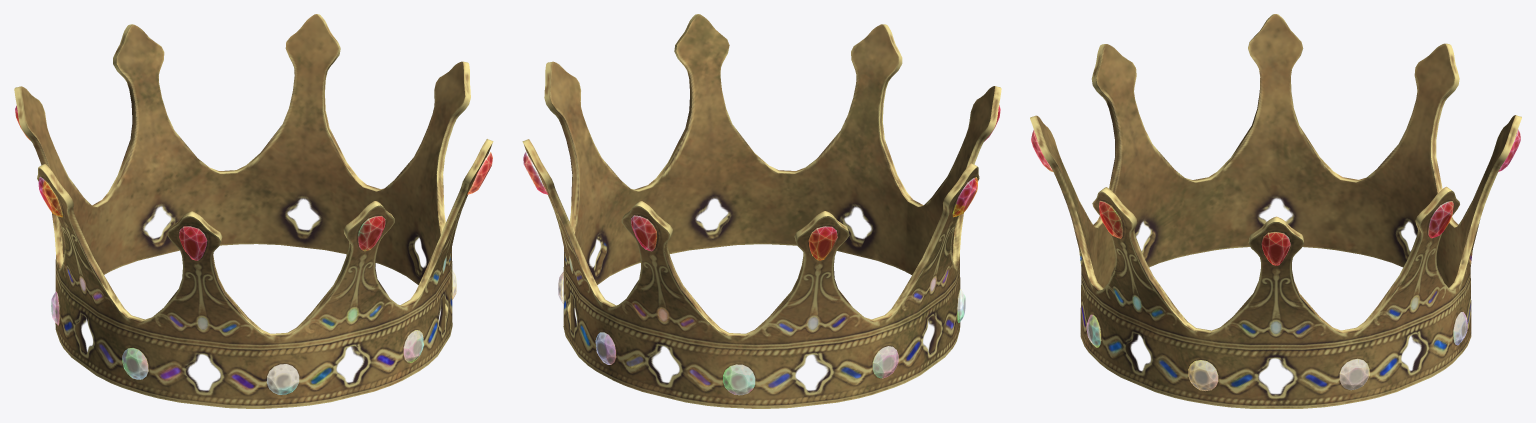
The model's file is CrownB.glb.
The picture shows the model from 3 angles, left to right: view 1: azimuth 30°, elevation 25°; view 2: azimuth 150°, elevation 25°; view 3: azimuth 270°, elevation 25°; orthographic projection.
Visible parts, largest first — view 1: Kopia; view 2: Kopia; view 3: Kopia.
Boxes of the visible parts, <box> form: Kopia: <box>14,14,493,408</box>; Kopia: <box>522,14,1001,408</box>; Kopia: <box>1030,14,1521,408</box>.
Size of the model in its own units: 0.6556 by 0.3103 by 0.6556.
Materials: 1 (1 with a texture image).
